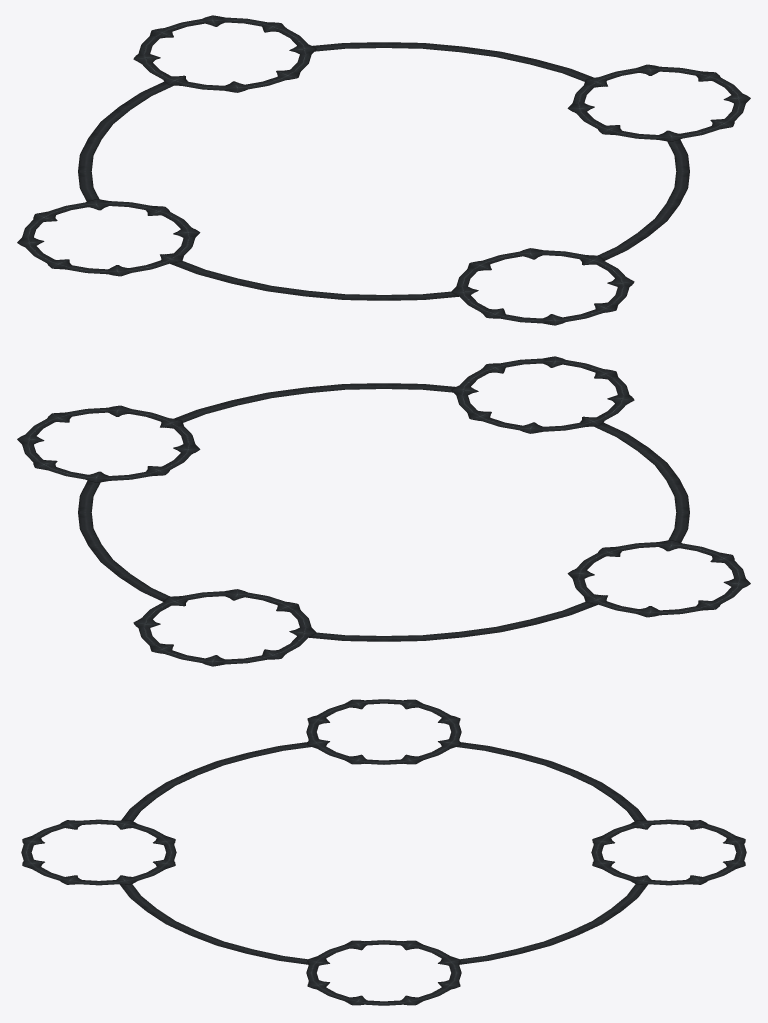
Rendered from dxlm_zhuangshi.FBX.
3 views of the same model, one above another, from view 1: azimuth 30°, elevation 25°; view 2: azimuth 150°, elevation 25°; view 3: azimuth 270°, elevation 25° (orthographic). The views are drawn at different scales.
Parts seen in each view (by area): view 1: dxlm_zhuangshi; view 2: dxlm_zhuangshi; view 3: dxlm_zhuangshi.
Boxes of the visible parts, bbox=[...] form: dxlm_zhuangshi: bbox=[17, 15, 750, 325]; dxlm_zhuangshi: bbox=[17, 356, 750, 666]; dxlm_zhuangshi: bbox=[21, 699, 746, 1005].
Size of the model in its own units: 9.27 by 0.0124 by 9.27.
